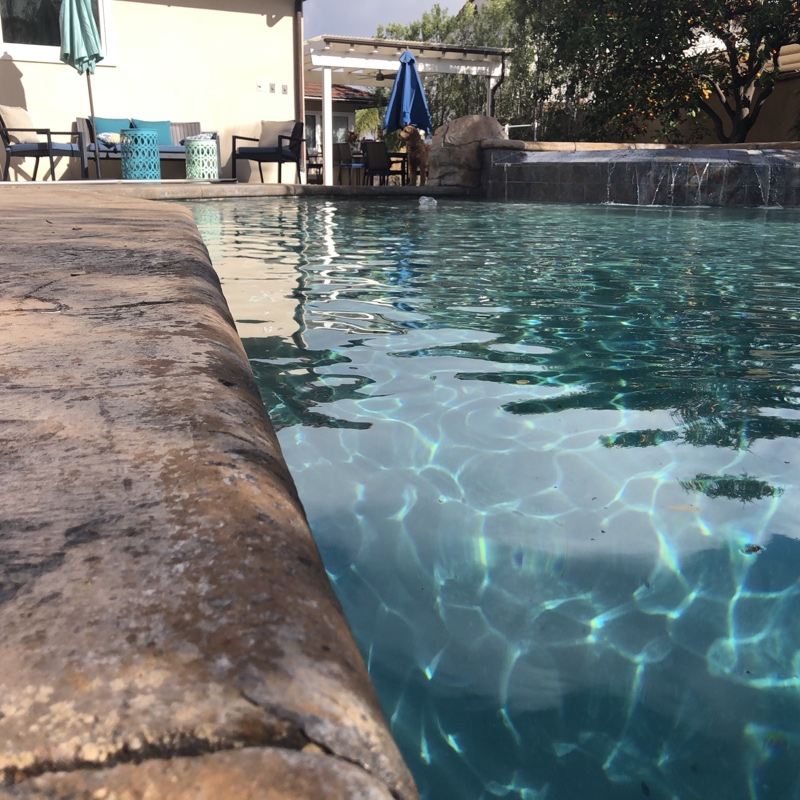Plastic Bottle: (416, 193, 438, 214)
